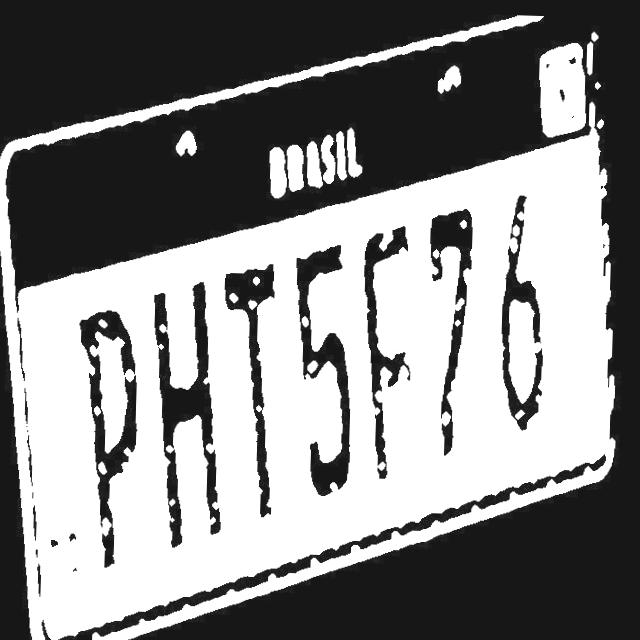5: (284, 239, 367, 506)
6: (488, 186, 563, 432)
7: (420, 198, 485, 457)
f: (354, 213, 421, 488)
h: (136, 273, 232, 550)
p: (66, 301, 150, 571)
t: (212, 254, 296, 519)
